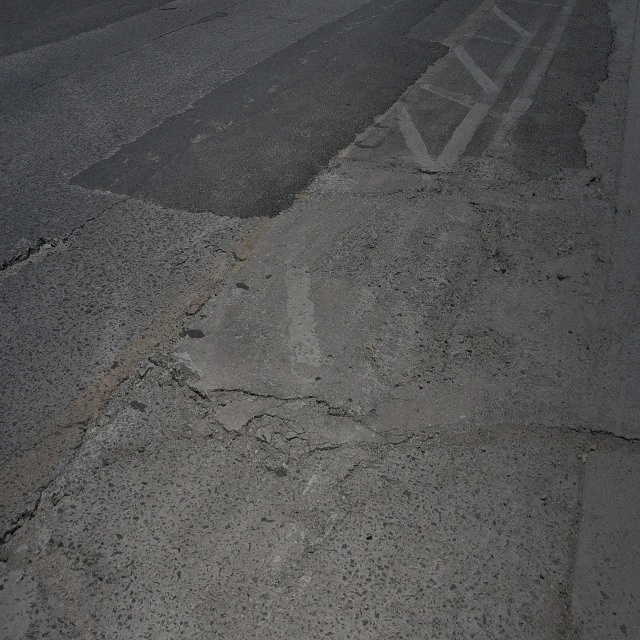pothole: (3, 484, 100, 635), (413, 406, 602, 465), (4, 472, 61, 577), (422, 286, 471, 374), (6, 227, 76, 276), (142, 357, 200, 408), (474, 195, 504, 274), (470, 332, 512, 382), (205, 386, 254, 414), (208, 420, 239, 448), (586, 172, 604, 200), (420, 166, 438, 178)
